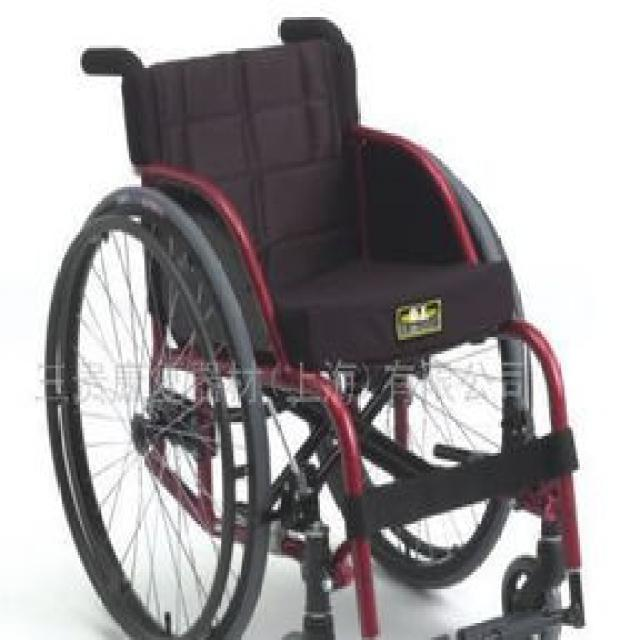wheelchair: (36, 11, 586, 637)
